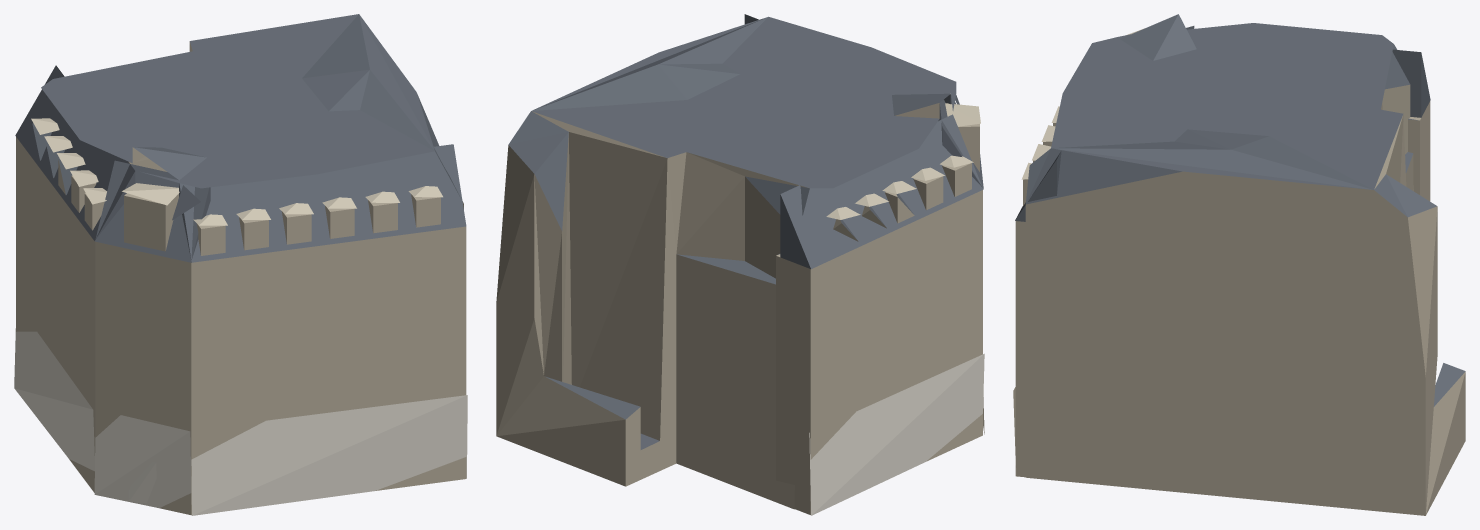
Rendered from banks-mansion.lod2.glb.
3 views of the same model, side by side, from view 1: azimuth 30°, elevation 25°; view 2: azimuth 150°, elevation 25°; view 3: azimuth 270°, elevation 25° (orthographic). The views are drawn at different scales.
Visible parts, largest first — view 1: lod2; view 2: lod2; view 3: lod2.
Boxes of the visible parts, bbox=[...] form: lod2: bbox=[14, 14, 467, 515]; lod2: bbox=[496, 14, 984, 515]; lod2: bbox=[1013, 14, 1465, 515].
Size of the model in its own units: 26.92 by 22.88 by 27.79.
